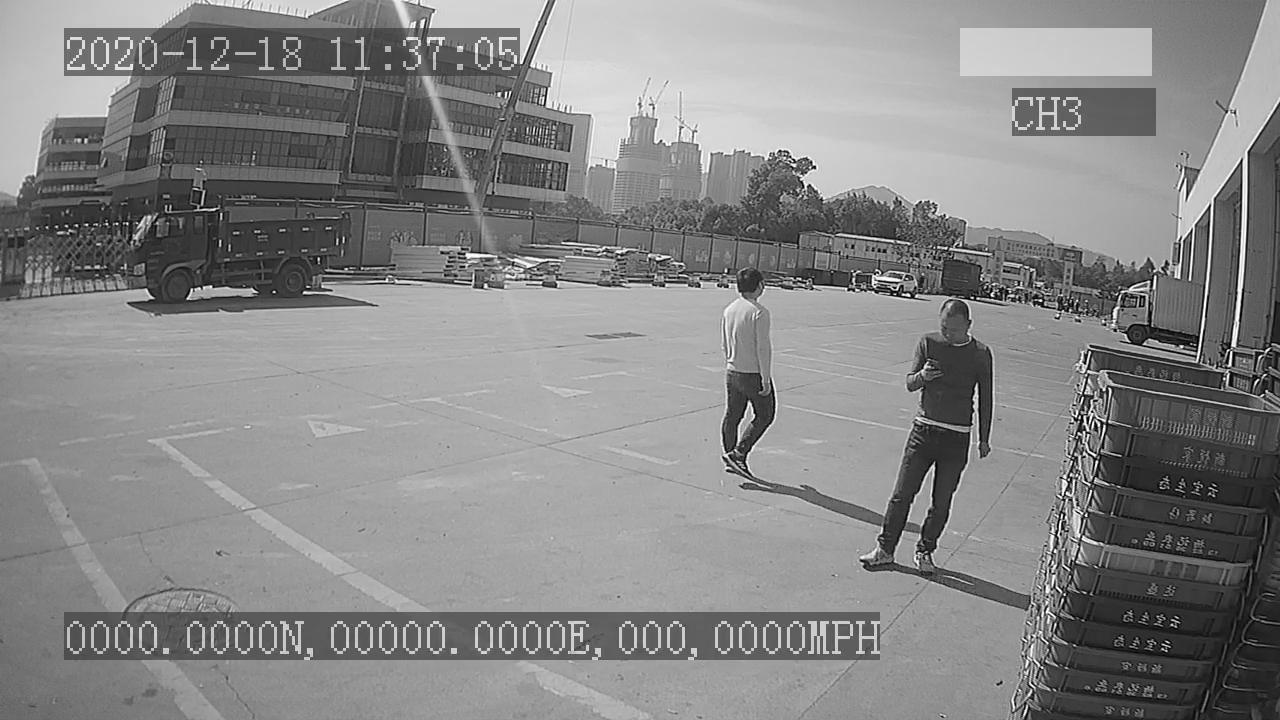person: (856, 297, 1002, 579), (713, 265, 780, 479)
